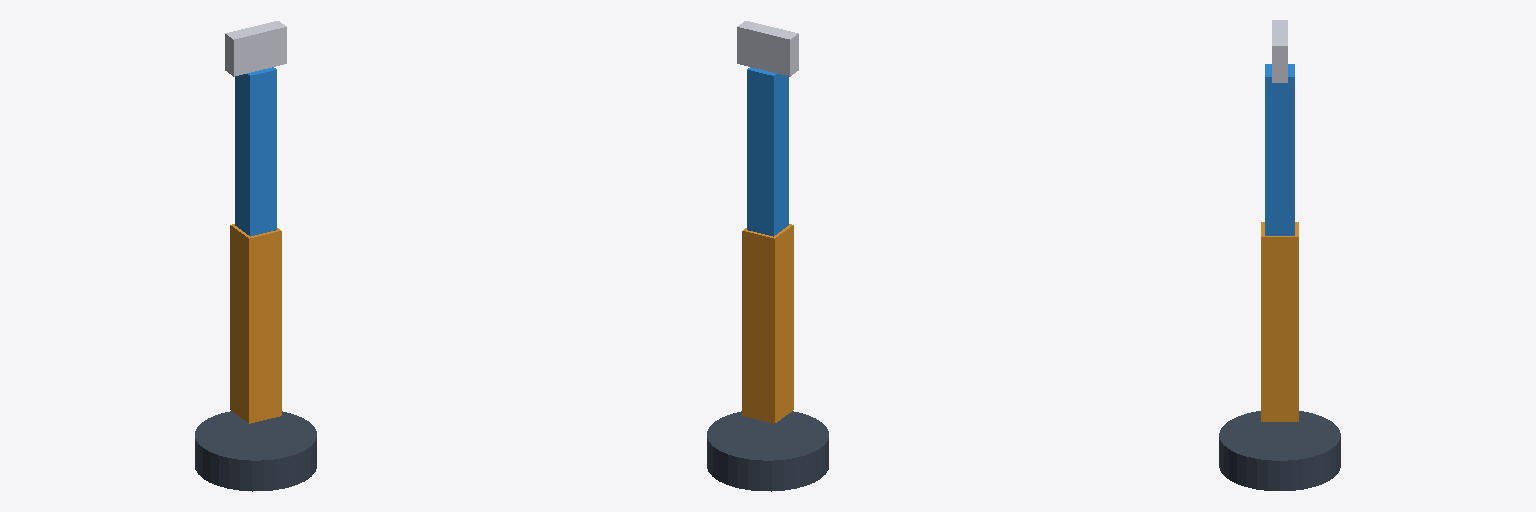
robot.urdf — demo_arm:
<?xml version="1.0"?>
<!-- Snakie demo arm (#311): a 3-DOF arm from URDF primitives — no external
     meshes, so it renders zero-setup in the Robot View. -->
<robot name="demo_arm">
  <link name="base">
    <visual>
      <geometry><cylinder radius="0.09" length="0.05"/></geometry>
      <material name="base_mat"><color rgba="0.30 0.34 0.40 1"/></material>
    </visual>
  </link>

  <joint name="shoulder" type="revolute">
    <parent link="base"/>
    <child link="upper_arm"/>
    <origin xyz="0 0 0.05" rpy="0 0 0"/>
    <axis xyz="0 0 1"/>
    <limit lower="-1.5708" upper="1.5708" effort="1" velocity="1"/>
  </joint>

  <link name="upper_arm">
    <visual>
      <origin xyz="0 0 0.16" rpy="0 0 0"/>
      <geometry><box size="0.055 0.055 0.30"/></geometry>
      <material name="arm_mat"><color rgba="0.90 0.62 0.22 1"/></material>
    </visual>
  </link>

  <joint name="elbow" type="revolute">
    <parent link="upper_arm"/>
    <child link="forearm"/>
    <origin xyz="0 0 0.31" rpy="0 0 0"/>
    <axis xyz="1 0 0"/>
    <limit lower="-2.2" upper="2.2" effort="1" velocity="1"/>
  </joint>

  <link name="forearm">
    <visual>
      <origin xyz="0 0 0.13" rpy="0 0 0"/>
      <geometry><box size="0.045 0.045 0.26"/></geometry>
      <material name="fore_mat"><color rgba="0.24 0.60 0.90 1"/></material>
    </visual>
  </link>

  <joint name="wrist" type="revolute">
    <parent link="forearm"/>
    <child link="gripper"/>
    <origin xyz="0 0 0.26" rpy="0 0 0"/>
    <axis xyz="1 0 0"/>
    <limit lower="-1.5708" upper="1.5708" effort="1" velocity="1"/>
  </joint>

  <link name="gripper">
    <visual>
      <origin xyz="0 0 0.03" rpy="0 0 0"/>
      <geometry><box size="0.09 0.025 0.06"/></geometry>
      <material name="grip_mat"><color rgba="0.85 0.86 0.90 1"/></material>
    </visual>
  </link>
</robot>

--- What the picture shows (computed from the rendered views, not written in the file) ---
The picture shows the robot from 3 angles, left to right: view 1: azimuth 30°, elevation 25°; view 2: azimuth 150°, elevation 25°; view 3: azimuth 270°, elevation 25°; orthographic projection.
Robot: demo_arm — 4 links, 3 joints (3 revolute); root link base; default pose: all joints at 0.
Visible links, largest first — view 1: upper_arm, base, forearm, gripper; view 2: upper_arm, base, forearm, gripper; view 3: base, upper_arm, forearm, gripper.
Boxes of the visible links, box(x1,y1,x2,y2) form: upper_arm: box(230, 224, 281, 423); base: box(195, 411, 316, 491); forearm: box(235, 67, 276, 236); gripper: box(225, 21, 286, 76); upper_arm: box(742, 224, 793, 423); base: box(707, 411, 828, 491); forearm: box(747, 67, 788, 236); gripper: box(737, 21, 798, 76); base: box(1219, 411, 1340, 490); upper_arm: box(1261, 222, 1298, 421); forearm: box(1265, 64, 1294, 235); gripper: box(1272, 20, 1287, 82).
Size in the robot's own frame: 0.18 by 0.18 by 0.705 metres.
Geometry: primitives only (box / cylinder / sphere), no mesh files.
